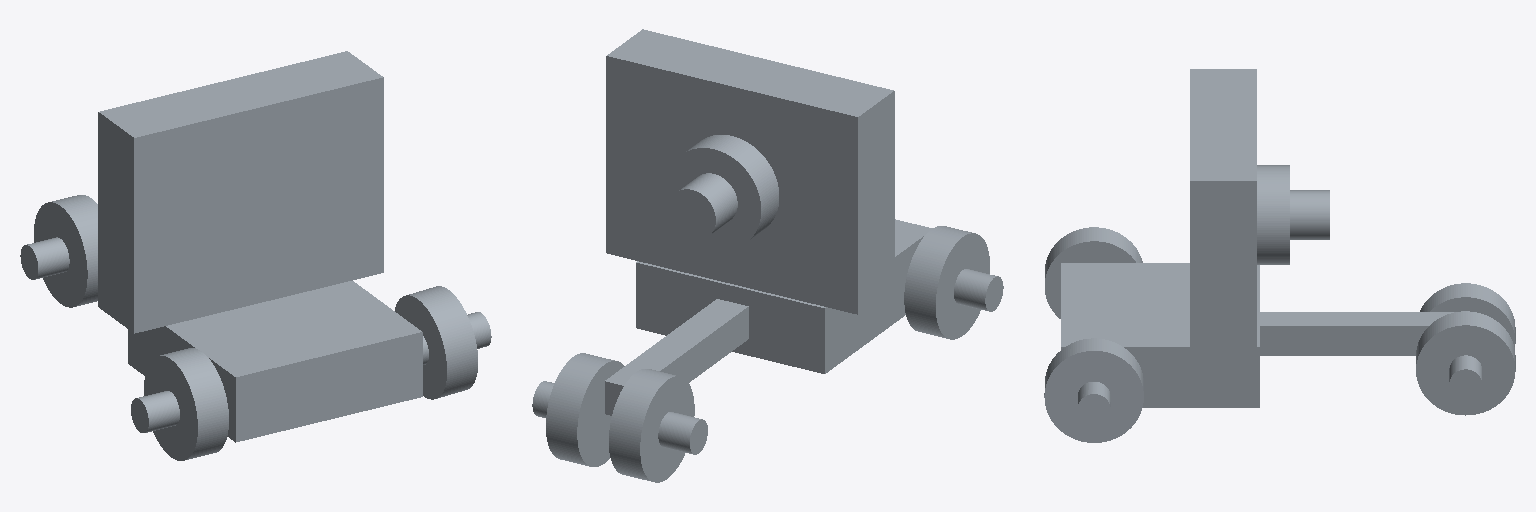
URDF robot description (d22diff2v1cam):
<?xml version="1.0" ?>
<robot name="d22diff2v1cam">
  <!--Generated by RobotCAD, a ROS Workbench for FreeCAD (https://github.com/drfenixion/freecad.robotcad)-->
  <link name="l_wheel018">
    <visual>
      <!--wheel018/wheel017.-->
      <origin rpy="0 -0.0523598775598229 0" xyz="0.0 0.0 0.0"/>
      <geometry>
        <mesh filename="package://d22diffw3_v2rc/meshes/wheel2.dae"/>
      </geometry>
    </visual>
    <collision>
      <!--col__l_wheel018__col_wheel016_col_obj/col_wheel016_col_obj.-->
      <origin rpy="0 -0.0523598775598229 0" xyz="0.0 0.0 0.0"/>
      <geometry>
        <mesh filename="package://d22diffw3_v2rc/meshes/col_wheel016_col_obj.dae"/>
      </geometry>
    </collision>
    <inertial>
      <mass value="0.0097389372261284"/>
      <origin rpy="0 -0.0523598775598229 0" xyz="-0.000314016 0.0 0.00599178"/>
      <inertia ixx="6.679300181e-07" ixy="0.0" ixz="0.0" iyy="6.679300181e-07" iyz="-0.0" izz="9.982423057e-07"/>
    </inertial>
  </link>
  <link name="l_chassis005">
    <visual>
      <!--chassis005/chassis005.-->
      <origin rpy="0 0 0" xyz="0.0 0.0 0.0"/>
      <geometry>
        <mesh filename="package://d22diffw3_v2rc/meshes/chassis.dae"/>
      </geometry>
    </visual>
    <collision>
      <!--col__l_chassis005__col_chassis004_col_obj/col_chassis004_col_obj.-->
      <origin rpy="0 0 0" xyz="0.0 0.0 0.0"/>
      <geometry>
        <mesh filename="package://d22diffw3_v2rc/meshes/col_chassis004_col_obj.dae"/>
      </geometry>
    </collision>
    <inertial>
      <mass value="0.0979418937226128"/>
      <origin rpy="0 0 0" xyz="-0.0843196 -0.0598031 0.01"/>
      <inertia ixx="5.92326999518e-05" ixy="3.335606386e-07" ixz="0.0" iyy="3.09291165398e-05" iyz="0.0" izz="8.40695082467e-05"/>
    </inertial>
  </link>
  <link name="l_wheel020">
    <visual>
      <!--wheel020/wheel019.-->
      <origin rpy="0 0 0" xyz="0.0 0.0 0.0"/>
      <geometry>
        <mesh filename="package://d22diffw3_v2rc/meshes/wheel2.dae"/>
      </geometry>
    </visual>
    <collision>
      <!--col__l_wheel020__col_wheel018_col_obj/col_wheel018_col_obj.-->
      <origin rpy="0 0 0" xyz="0.0 0.0 0.0"/>
      <geometry>
        <mesh filename="package://d22diffw3_v2rc/meshes/col_wheel018_col_obj.dae"/>
      </geometry>
    </collision>
    <inertial>
      <mass value="0.0097389372261284"/>
      <origin rpy="0 0 0" xyz="0.0 0.0 0.006"/>
      <inertia ixx="6.679300181e-07" ixy="0.0" ixz="0.0" iyy="6.679300181e-07" iyz="-0.0" izz="9.982423057e-07"/>
    </inertial>
  </link>
  <link name="l_wheel022">
    <visual>
      <!--wheel022/wheel021.-->
      <origin rpy="0 0 0" xyz="0.0 0.0 0.0"/>
      <geometry>
        <mesh filename="package://d22diffw3_v2rc/meshes/wheel2.dae"/>
      </geometry>
    </visual>
    <collision>
      <!--col__l_wheel022__col_wheel020_col_obj/col_wheel020_col_obj.-->
      <origin rpy="0 0 0" xyz="0.0 0.0 0.0"/>
      <geometry>
        <mesh filename="package://d22diffw3_v2rc/meshes/col_wheel020_col_obj.dae"/>
      </geometry>
    </collision>
    <inertial>
      <mass value="0.0097389372261284"/>
      <origin rpy="0 0 0" xyz="0.0 0.0 0.006"/>
      <inertia ixx="6.679300181e-07" ixy="0.0" ixz="0.0" iyy="6.679300181e-07" iyz="-0.0" izz="9.982423057e-07"/>
    </inertial>
  </link>
  <link name="l_wheel024">
    <visual>
      <!--wheel024/wheel023.-->
      <origin rpy="0 0 0" xyz="0.171 0.0 0.0"/>
      <geometry>
        <mesh filename="package://d22diffw3_v2rc/meshes/wheel1.dae"/>
      </geometry>
    </visual>
    <collision>
      <!--col__l_wheel024__col_wheel022_col_obj/col_wheel022_col_obj.-->
      <origin rpy="0 0 0" xyz="0.0 0.0 0.0"/>
      <geometry>
        <mesh filename="package://d22diffw3_v2rc/meshes/col_wheel022_col_obj.dae"/>
      </geometry>
    </collision>
    <inertial>
      <mass value="0.0097389372261284"/>
      <origin rpy="0 0 0" xyz="0.0 0.0 0.006"/>
      <inertia ixx="6.679300181e-07" ixy="0.0" ixz="0.0" iyy="6.679300181e-07" iyz="-0.0" izz="9.982423057e-07"/>
    </inertial>
  </link>
  <link name="l_cam001">
    <visual>
      <!--cam001/cam002.-->
      <origin rpy="-1.5707963267948963 -1.5707963267948966 0" xyz="0.0 -0.01 0.03"/>
      <geometry>
        <mesh filename="package://d22diffw3_v2rc/meshes/cam.dae"/>
      </geometry>
    </visual>
    <collision>
      <!--col__l_cam001__col_cam001_col_obj/col_cam001_col_obj.-->
      <origin rpy="-1.5707963267948963 -1.5707963267948966 0" xyz="0.0 -0.01 0.03"/>
      <geometry>
        <mesh filename="package://d22diffw3_v2rc/meshes/col_cam001_col_obj.dae"/>
      </geometry>
    </collision>
    <inertial>
      <mass value="0.1304345565545702"/>
      <origin rpy="-1.5707963267948963 -1.5707963267948966 0" xyz="0.0 0.00153213 0.03"/>
      <inertia ixx="7.15341083662e-05" ixy="-0.0" ixz="0.0" iyy="4.37581083662e-05" iyz="0.0" izz="0.0001002600236887"/>
    </inertial>
  </link>
  <joint name="right_wheel1_joint" type="continuous">
    <parent link="l_chassis005"/>
    <child link="l_wheel018"/>
    <origin rpy="1.5707963267948921 1.521387112333005 1.5707963267948921" xyz="-0.0492593 -0.0843924 0.01"/>
    <axis xyz="0 0 1"/>
    <limit effort="1000.0" velocity="17.453292519943297"/>
  </joint>
  <joint name="right_wheel2_joint" type="continuous">
    <parent link="l_chassis005"/>
    <child link="l_wheel020"/>
    <origin rpy="0 1.5707963267948963 0" xyz="-0.0800284 0.0276076 0.005"/>
    <axis xyz="0 0 1"/>
    <limit effort="1000.0" velocity="17.453292519943297"/>
  </joint>
  <joint name="left_wheel1_joint" type="continuous">
    <parent link="l_chassis005"/>
    <child link="l_wheel022"/>
    <origin rpy="0 -1.5707963267948963 0" xyz="-0.0900284 0.0276076 0.005"/>
    <axis xyz="0 0 1"/>
    <limit effort="1000.0" velocity="17.453292519943297"/>
  </joint>
  <joint name="left_wheel2_joint" type="continuous">
    <parent link="l_chassis005"/>
    <child link="l_wheel024"/>
    <origin rpy="0 -1.5707963267948963 0" xyz="-0.119259 -0.0843924 0.01"/>
    <axis xyz="0 0 1"/>
    <limit effort="1000.0" velocity="17.453292519943297"/>
  </joint>
  <joint name="cam_joint" type="fixed">
    <parent link="l_chassis005"/>
    <child link="l_cam001"/>
    <origin rpy="0 0 0" xyz="-0.0842593 -0.0453924 0.02"/>
  </joint>
</robot>

--- Render facts (derived) ---
The picture shows the robot from 3 angles, left to right: view 1: azimuth 30°, elevation 25°; view 2: azimuth 150°, elevation 25°; view 3: azimuth 270°, elevation 25°; orthographic projection.
Model d22diff2v1cam with 6 links and 5 joints (4 continuous, 1 fixed), rooted at l_chassis005, posed every joint at zero.
Visible links, largest first — view 1: l_cam001, l_chassis005, l_wheel024, l_wheel022, l_wheel018; view 2: l_cam001, l_chassis005, l_wheel022, l_wheel024, l_wheel020; view 3: l_cam001, l_chassis005, l_wheel020, l_wheel018, l_wheel024, l_wheel022.
Link boxes in pixels (x1,y1,x2,y2): l_cam001: (98, 51, 383, 333); l_chassis005: (128, 281, 428, 442); l_wheel024: (131, 348, 228, 460); l_wheel022: (20, 195, 97, 307); l_wheel018: (395, 286, 491, 399); l_cam001: (606, 29, 894, 314); l_chassis005: (605, 219, 932, 415); l_wheel022: (609, 369, 707, 482); l_wheel024: (904, 226, 1003, 339); l_wheel020: (532, 353, 624, 466); l_cam001: (1190, 69, 1329, 360); l_chassis005: (1061, 263, 1453, 407); l_wheel020: (1416, 311, 1515, 415); l_wheel018: (1044, 338, 1143, 442); l_wheel024: (1045, 227, 1142, 318); l_wheel022: (1420, 283, 1515, 346).
Size in the robot's own frame: 0.1102 by 0.142 by 0.09 metres.
6 mesh visuals loaded from 4 distinct referenced files (4 Collada DAE).
